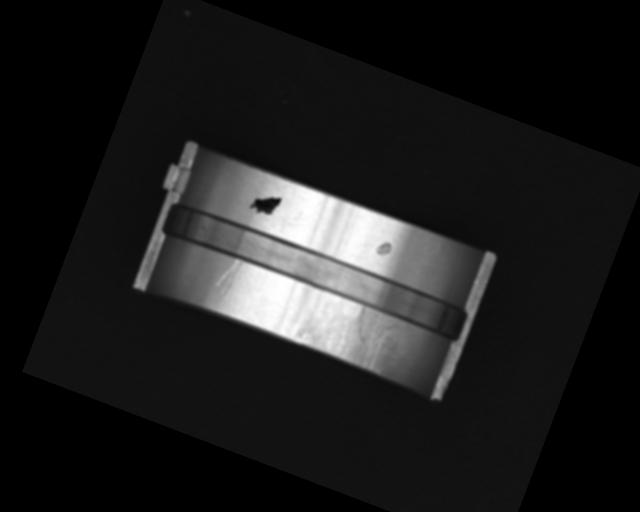blot: (248, 188, 283, 220)
bruise: (374, 238, 395, 259)
gap: (158, 196, 471, 344)
nick: (213, 255, 243, 299)
scratch: (293, 287, 411, 379)
